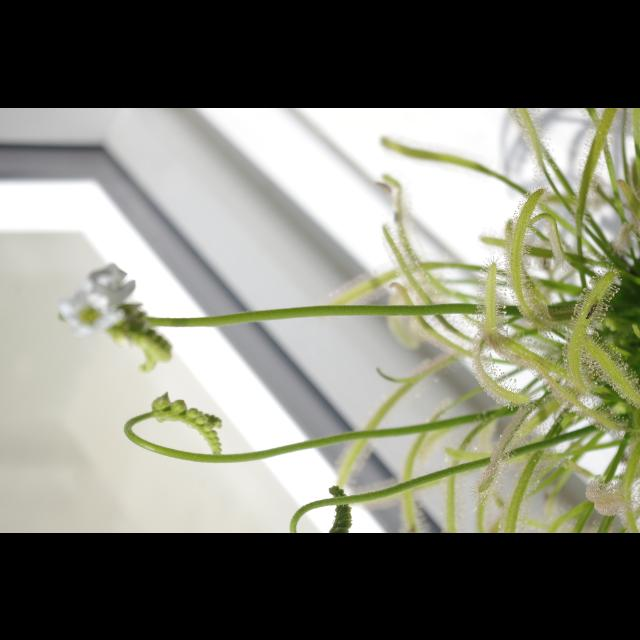Flower: (59, 288, 124, 340), (78, 260, 138, 306)
